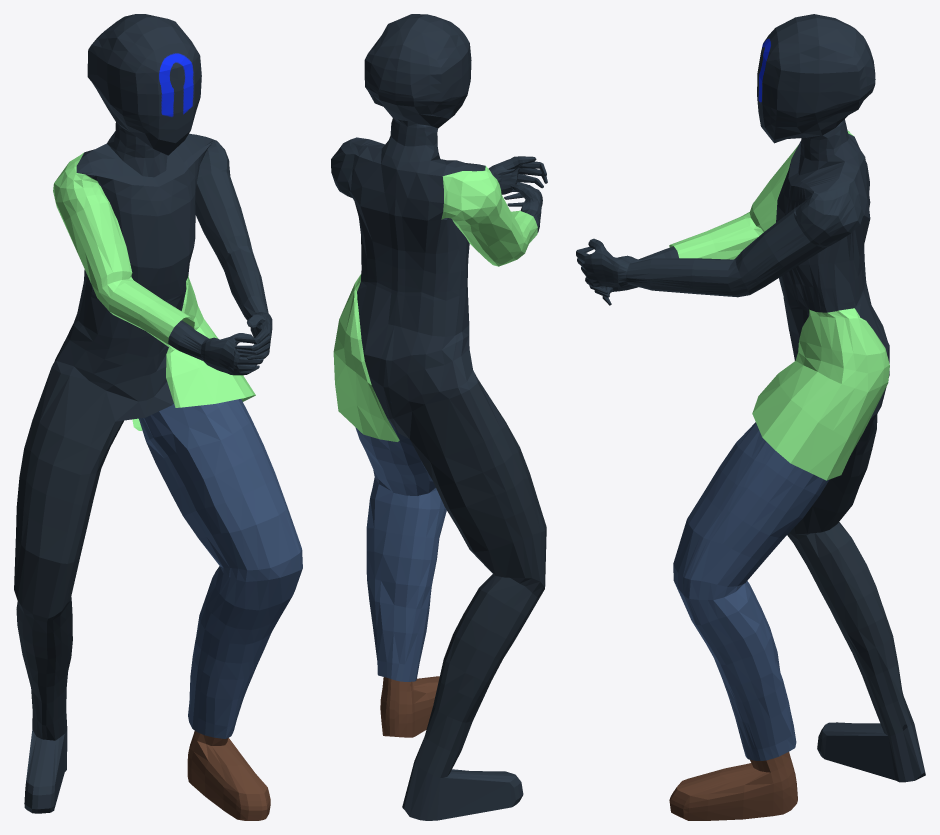
The model's file is Mar_WF_000022.obj.
3 views of the same model, side by side, from view 1: azimuth 30°, elevation 25°; view 2: azimuth 150°, elevation 25°; view 3: azimuth 270°, elevation 25° (orthographic). The views are drawn at different scales.
Visible parts, largest first — view 1: Cube.000_Cube.001; view 2: Cube.000_Cube.001; view 3: Cube.000_Cube.001.
Boxes of the visible parts, box(x1,y1,x2,y2) form: Cube.000_Cube.001: box(14, 14, 302, 820); Cube.000_Cube.001: box(331, 14, 547, 820); Cube.000_Cube.001: box(576, 14, 925, 820).
Size of the model in its own units: 1.13 by 3.72 by 1.5.
